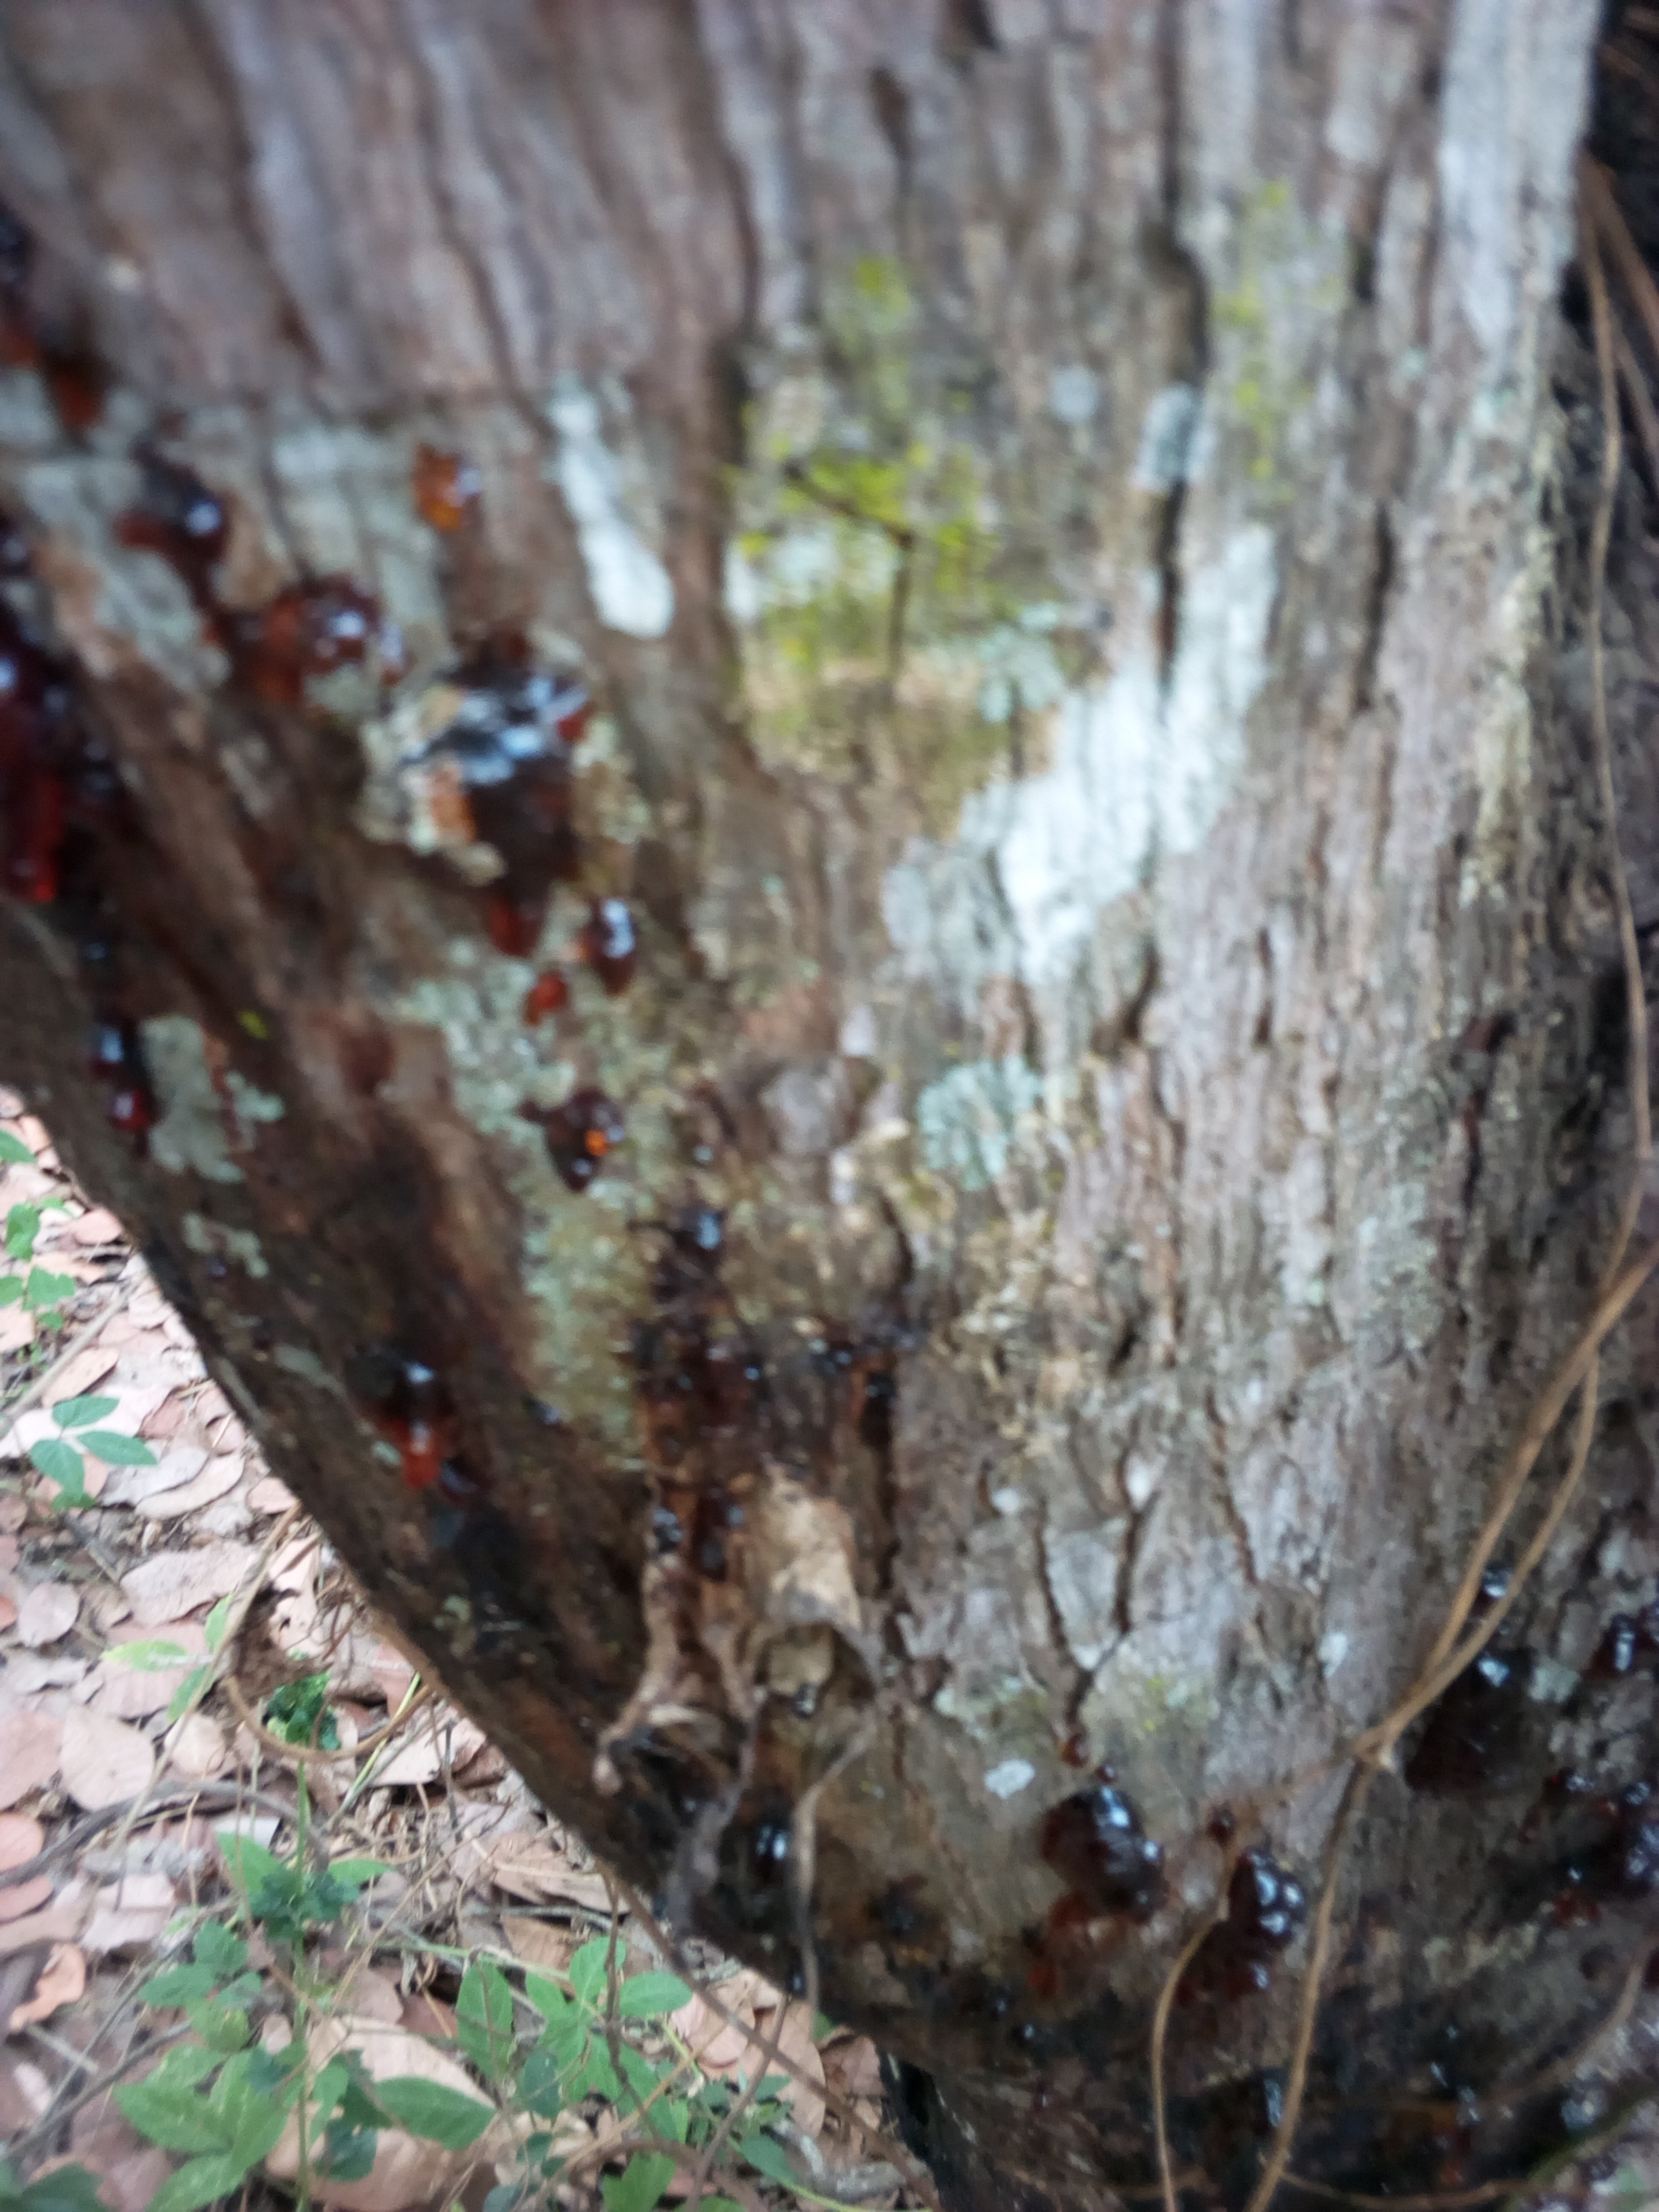Gommose: (37, 381, 1659, 2212)
